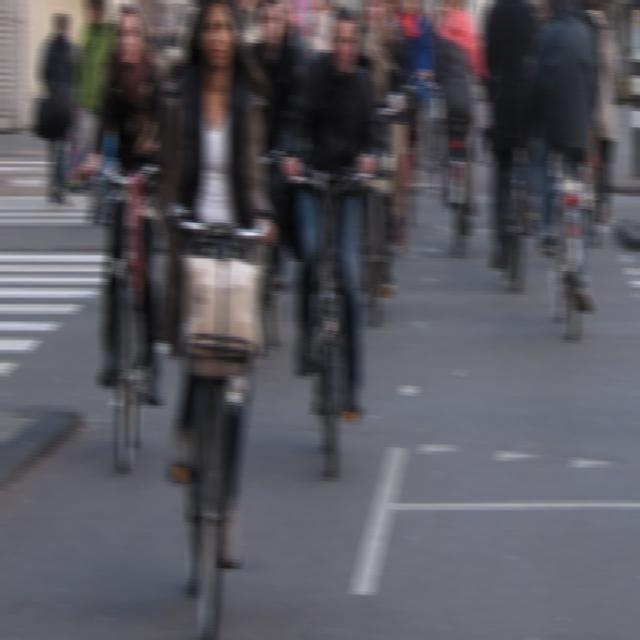Without Helmet: (187, 0, 244, 72), (320, 0, 361, 78), (107, 0, 145, 69)
